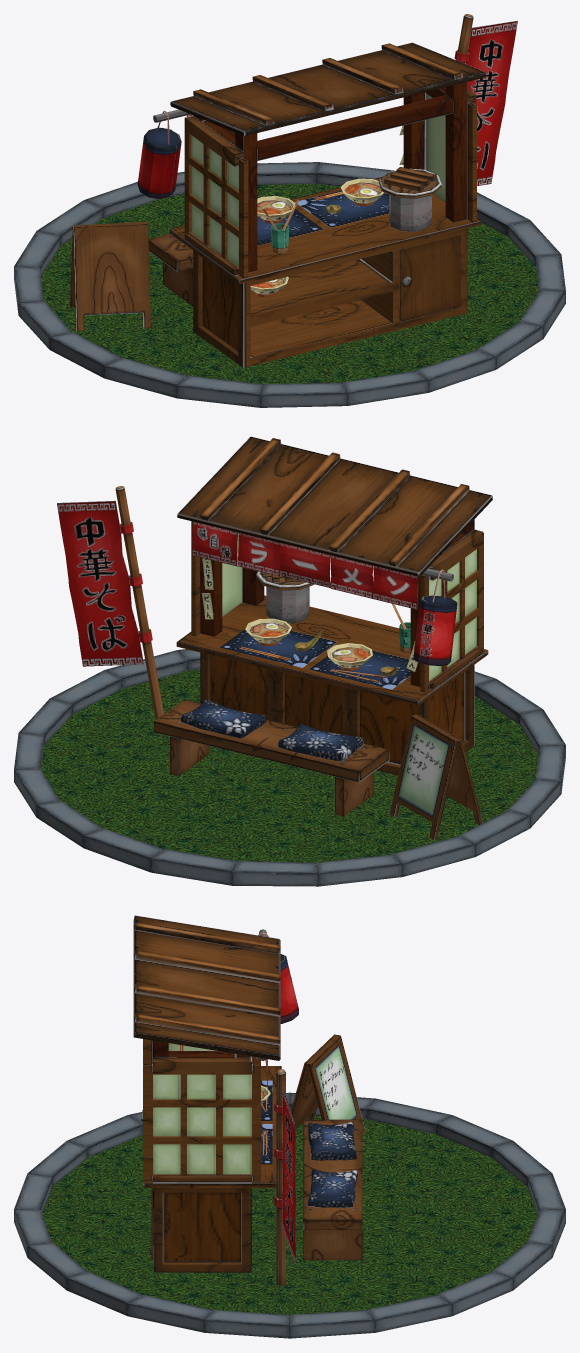
File: NNJ0210004.fbx
The picture shows the model from 3 angles, top to bottom: view 1: azimuth 30°, elevation 25°; view 2: azimuth 150°, elevation 25°; view 3: azimuth 270°, elevation 25°; orthographic projection.
Visible parts, largest first — view 1: smNNJ0210004; view 2: smNNJ0210004; view 3: smNNJ0210004.
Part boxes in pixels (x1,y1,x2,y2): smNNJ0210004: [14, 14, 565, 407]; smNNJ0210004: [14, 436, 565, 886]; smNNJ0210004: [14, 915, 565, 1338].
Size of the model in its own units: 695 by 350 by 695.
1 material, 1 textured.
